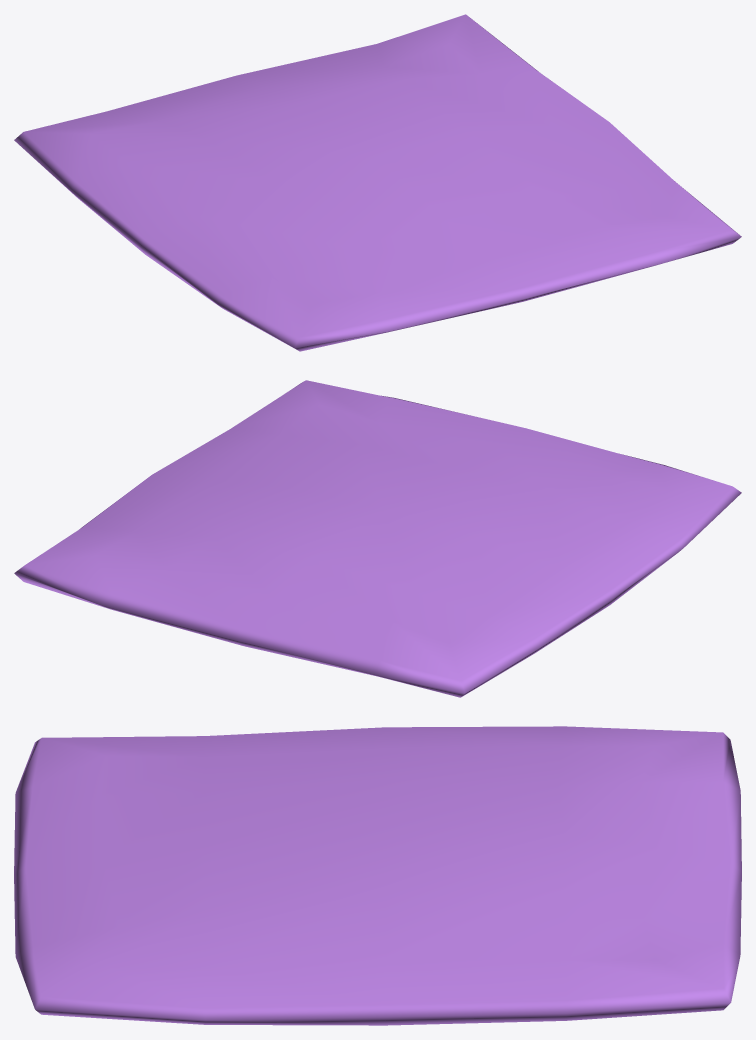
Rendered from Friday_YeastPacket.fbx.
The picture shows the model from 3 angles, top to bottom: view 1: azimuth 30°, elevation 25°; view 2: azimuth 150°, elevation 25°; view 3: azimuth 270°, elevation 25°; orthographic projection. The views are drawn at different scales.
Parts seen in each view (by area): view 1: Packet; view 2: Packet; view 3: Packet.
Boxes of the visible parts, left/top/right/bottom form: Packet: left=14, top=14, right=741, bottom=351; Packet: left=14, top=380, right=741, bottom=697; Packet: left=14, top=726, right=741, bottom=1025.
Bounding box in the file's own units: 36.13 × 4.82 × 39.02.
